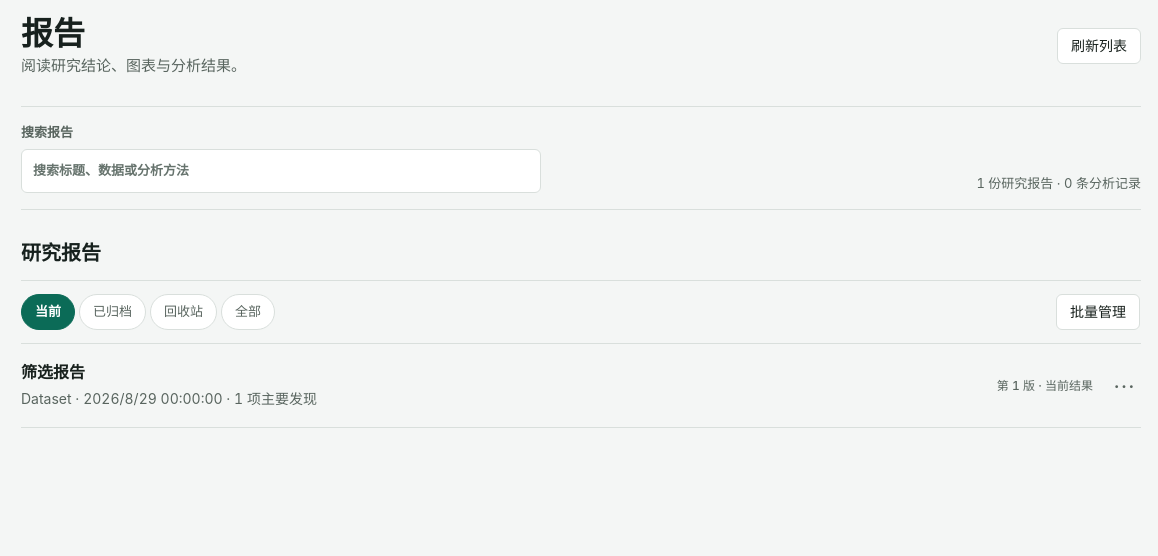
Test case: clears report selection when changing lifecycle filters
Expected: the link "筛选报告 Dataset · 2026/8/29 00:00:00 · 1 项主要发现 第 1 版 · 当前结果" is shown, [21,362,1093,407]
Click the button "批量管理": [1098, 312] box [1056,294,1140,330]
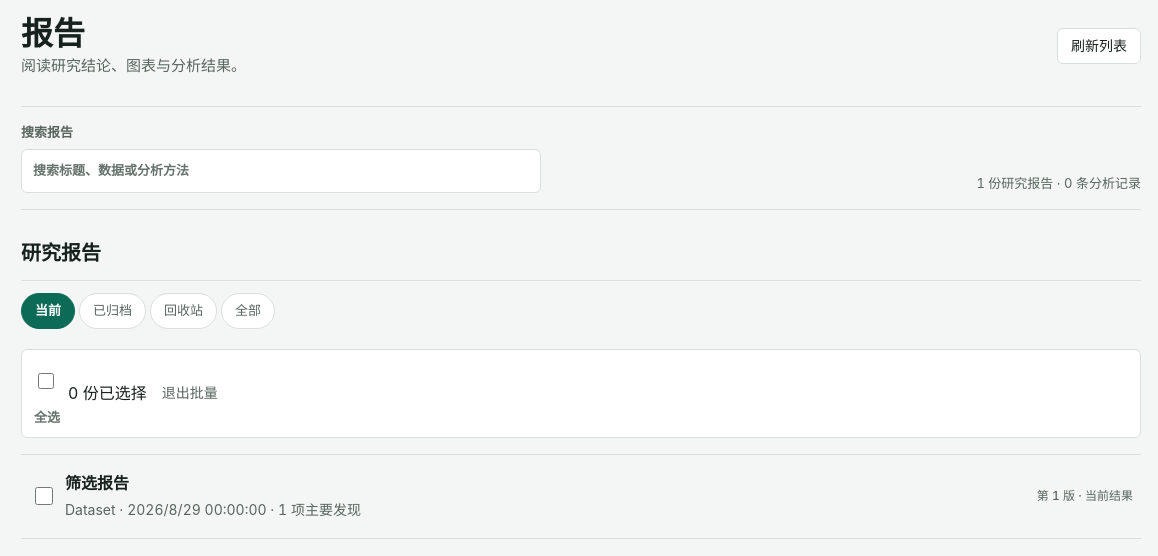
Click the checkbox named "选择 筛选报告": [44, 496] box [34,478,52,514]
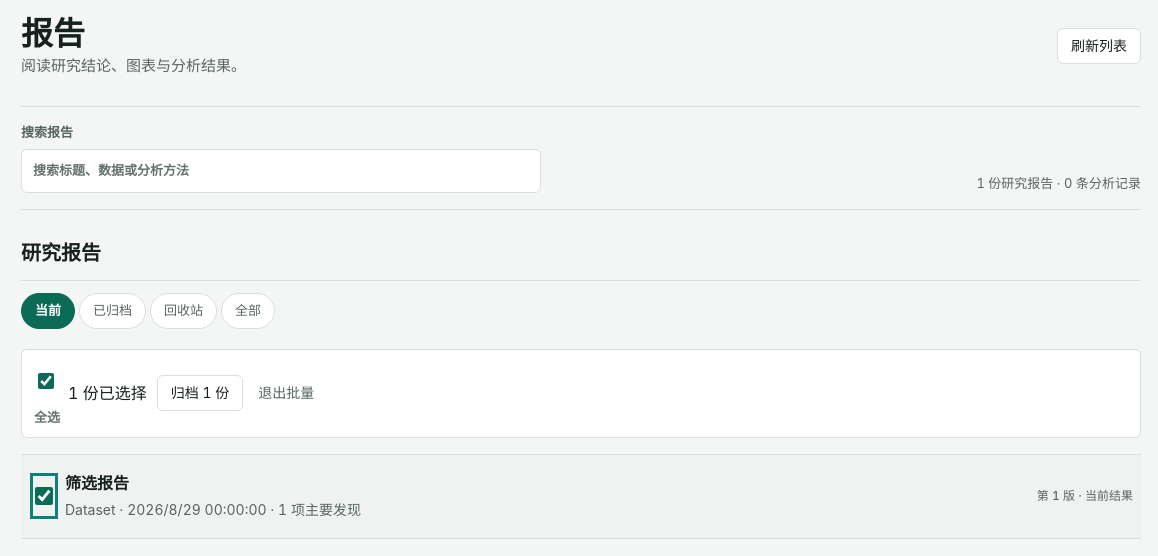
Expected: the text "1 份已选择" is shown, [68,382,147,405]
Click the button "已归档": [112, 311] box [79,293,146,329]
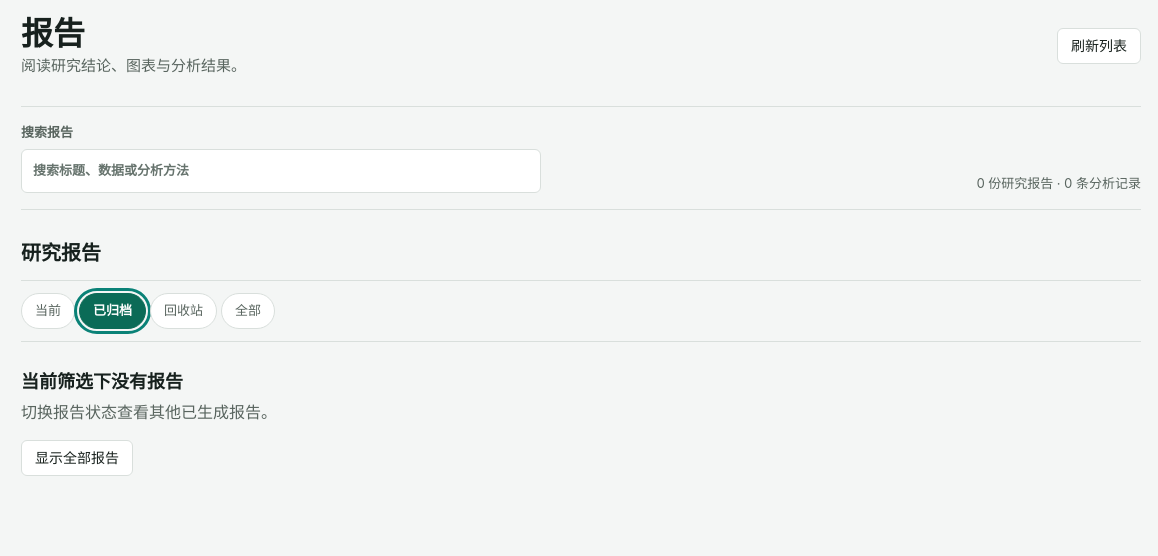
Click the button "当前": [48, 311] box [21,293,75,329]
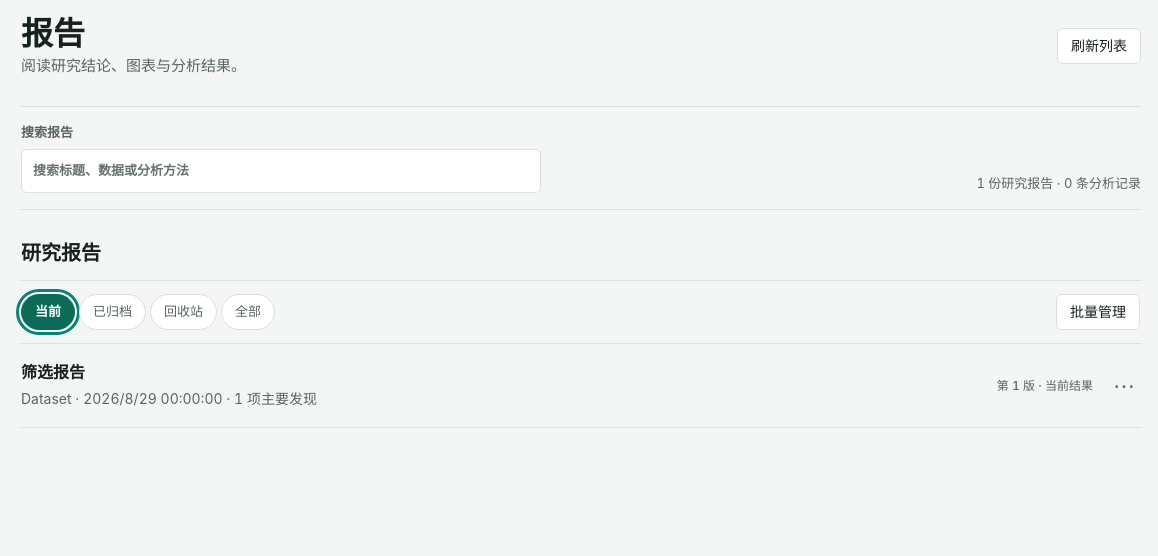
Expected: the checkbox labelled "选择 筛选报告" is not shown
Expected: the text "1 份已选择" is not shown
Click the button "批量管理": [1098, 312] box [1056,294,1140,330]
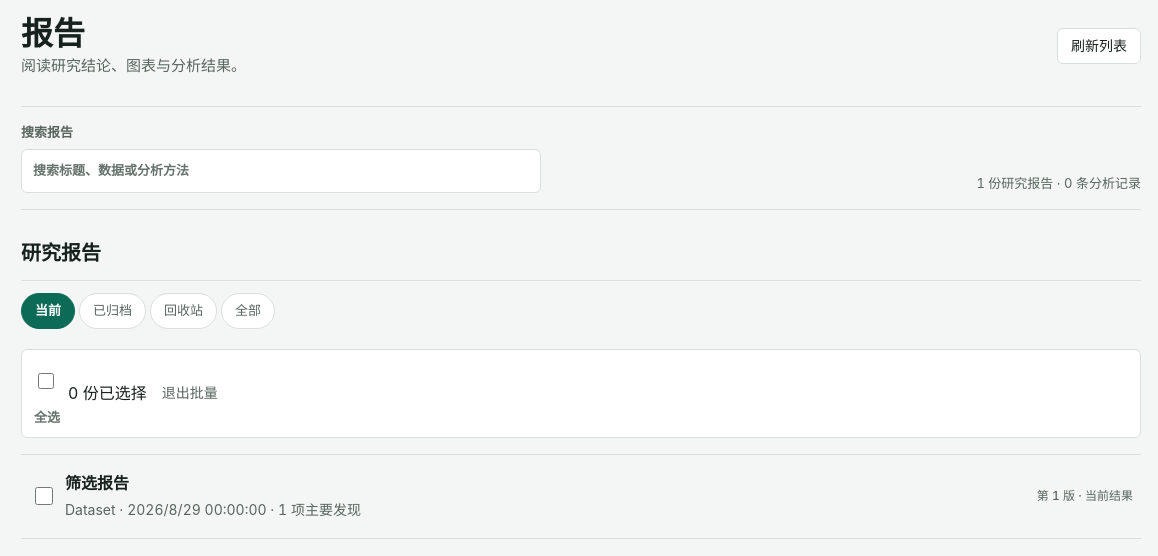
Expected: the checkbox named "选择 筛选报告" is not checked, [34,478,52,514]
